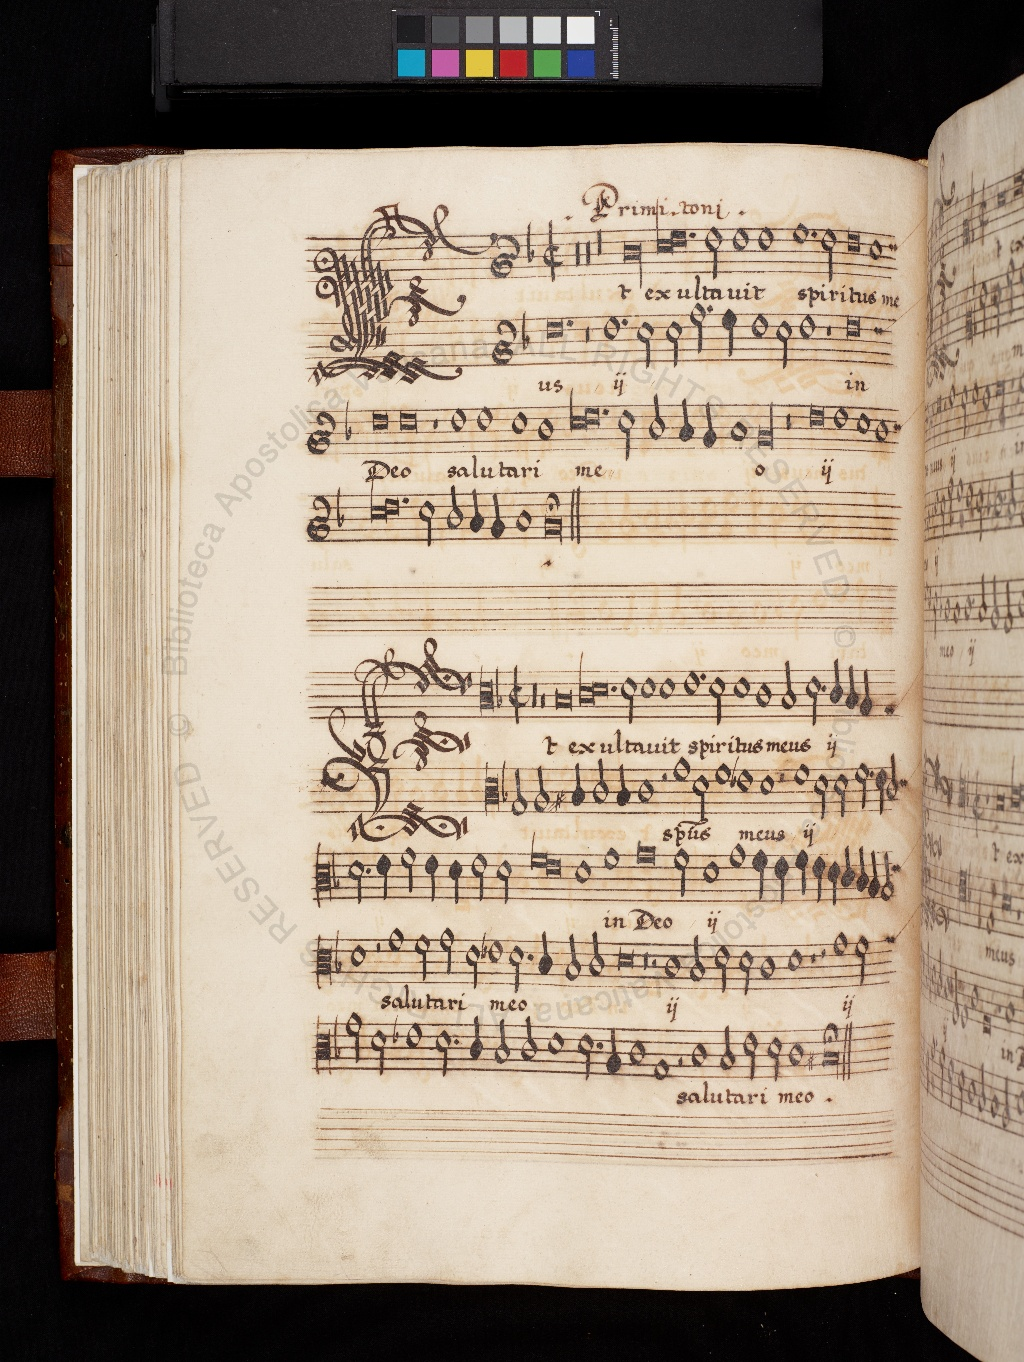breve rest: (638, 933, 651, 995)
breve_6: (611, 939, 638, 977)
c clef_7: (311, 928, 335, 995)
custos_3: (877, 921, 904, 953)
flat_5: (475, 927, 490, 963)
flat_8: (330, 928, 346, 980)
minim rest: (371, 925, 384, 989), (649, 933, 662, 996), (817, 933, 829, 995)
minim_3: (436, 921, 457, 980)
minim_4: (852, 930, 872, 992), (412, 927, 432, 987)
minim_5: (712, 937, 733, 1001)
minim_6: (507, 938, 526, 999), (463, 936, 482, 995), (736, 944, 755, 1002)
minim_7: (585, 924, 608, 984)
minim_8: (561, 926, 583, 989), (685, 930, 707, 990)
point: (521, 945, 538, 969)
semibreve rest: (807, 932, 819, 996)
semibreve_3: (384, 920, 409, 961), (828, 922, 851, 963)
semibreve_5: (486, 931, 506, 970)
semibreve_6: (345, 936, 369, 976), (783, 940, 807, 980)
semibreve_7: (659, 945, 684, 987), (755, 948, 779, 988)
semiminim_7: (536, 923, 556, 984)
